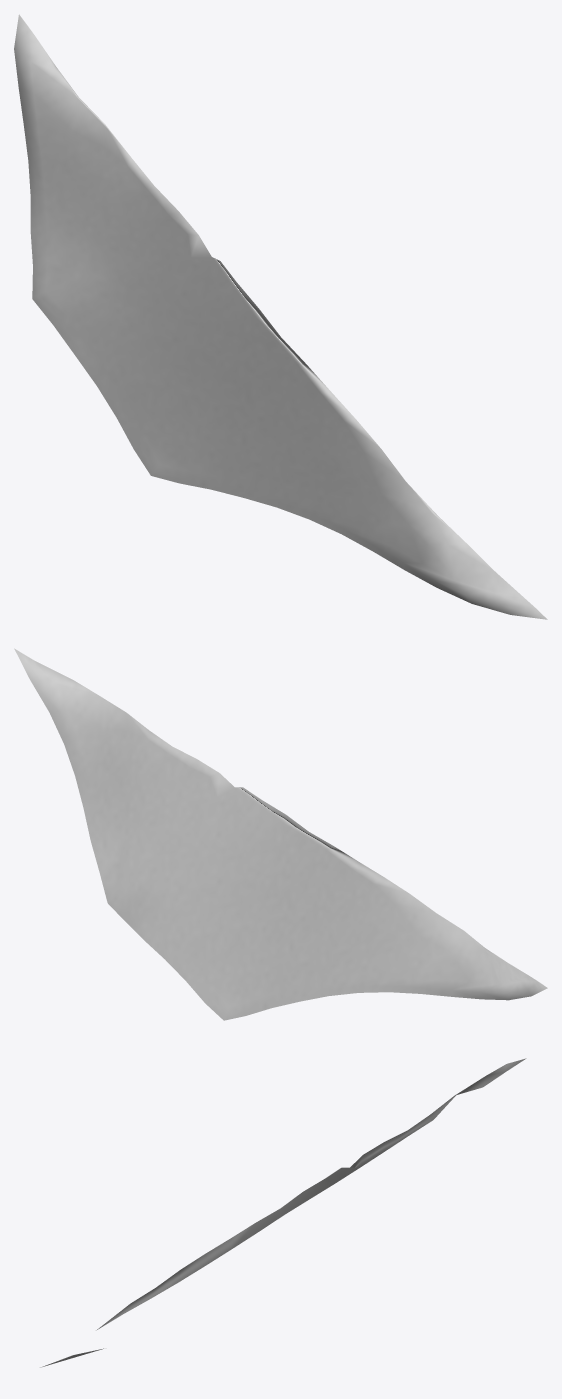
The model's file is Pants_Decor_Pocket_Left_V2.glb.
3 views of the same model, one above another, from view 1: azimuth 90°, elevation 25°; view 2: azimuth 150°, elevation 25°; view 3: azimuth 270°, elevation 25° (orthographic).
Parts seen in each view (by area): view 1: Pants_Decor_Pocket_Left_V21; view 2: Pants_Decor_Pocket_Left_V21; view 3: Pants_Decor_Pocket_Left_V21.
Boxes of the visible parts, bbox=[...] form: Pants_Decor_Pocket_Left_V21: bbox=[14, 14, 547, 619]; Pants_Decor_Pocket_Left_V21: bbox=[14, 648, 547, 1020]; Pants_Decor_Pocket_Left_V21: bbox=[40, 1058, 526, 1367].
Size of the model in its own units: 0.0548 by 0.0879 by 0.0904.
Materials: 1 (1 with a texture image).
